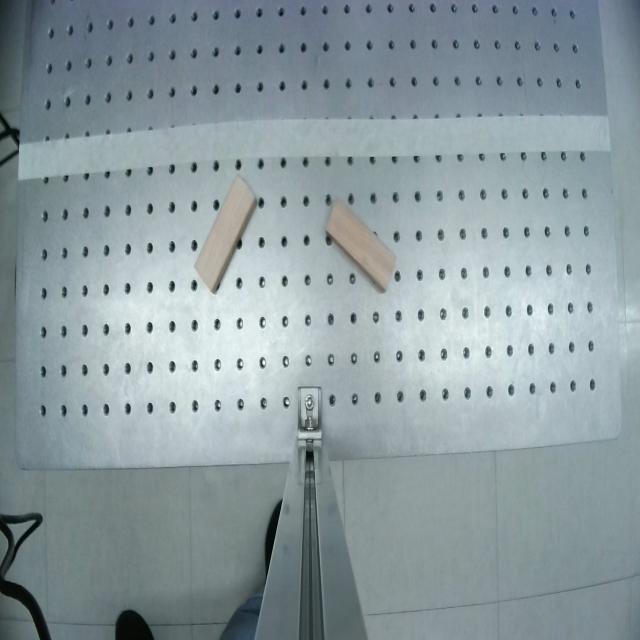wood: (311, 196, 409, 294), (187, 174, 264, 295)
